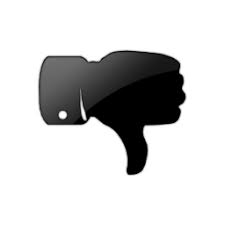thumbs_up: (17, 10, 208, 205)
